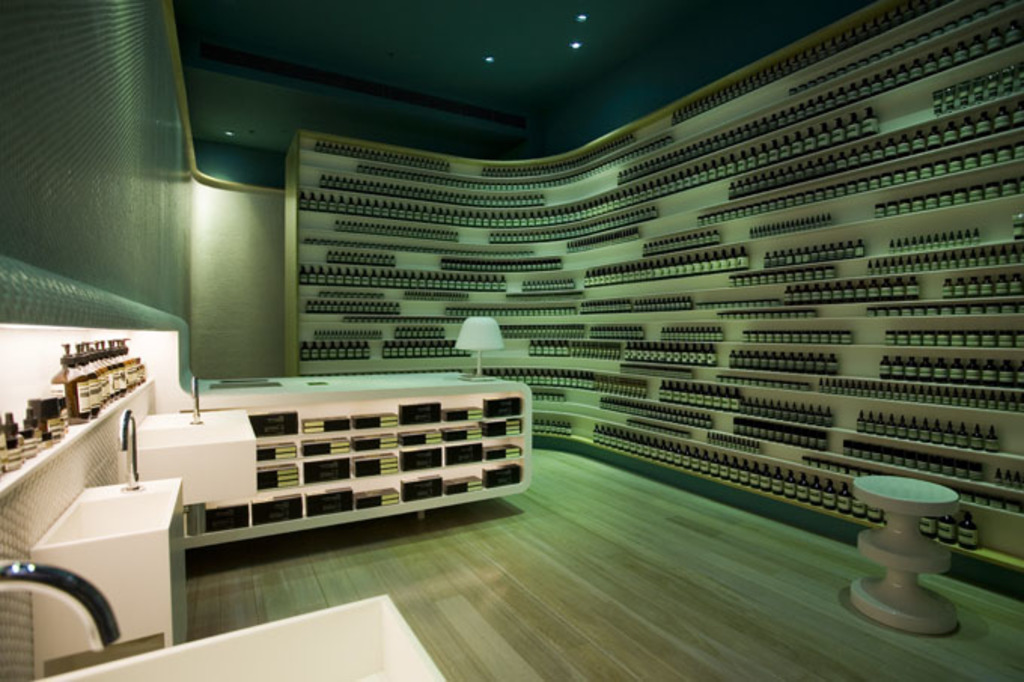tap: (115, 409, 141, 492), (186, 373, 203, 427)
